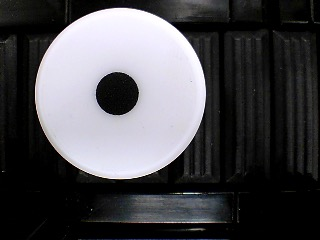BOHO: (33, 7, 207, 180)
